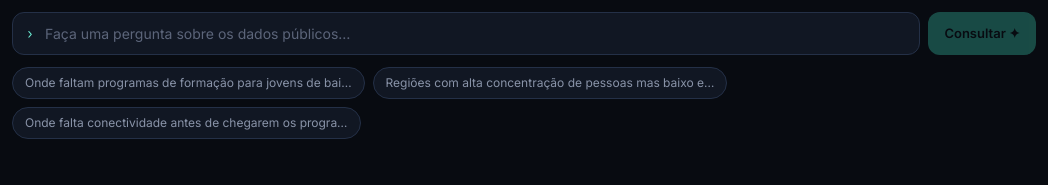
it: AIQueryBar › mostra o aviso de rate limit em português
Type "pergunta" into the field with placeholder "Faça uma pergunta sobre os dados públicos…". click: coordinates (466, 34)
box: [12,12,920,55]
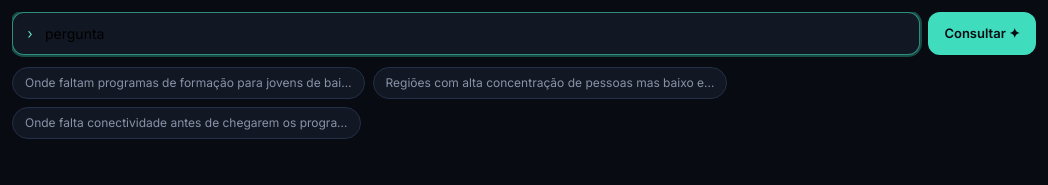
Click the button "Consultar ✦". click: coordinates (982, 34)
box: [928,12,1036,55]
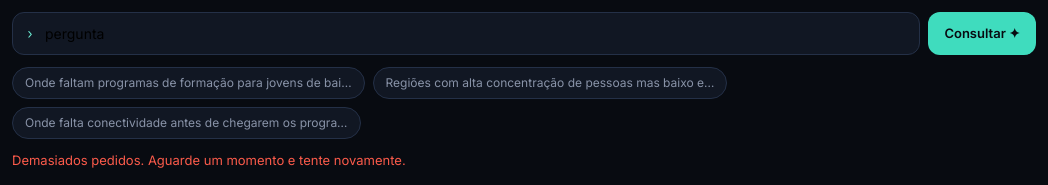
Now the message shows "Demasiados pedidos", box [12,152,406,168]
